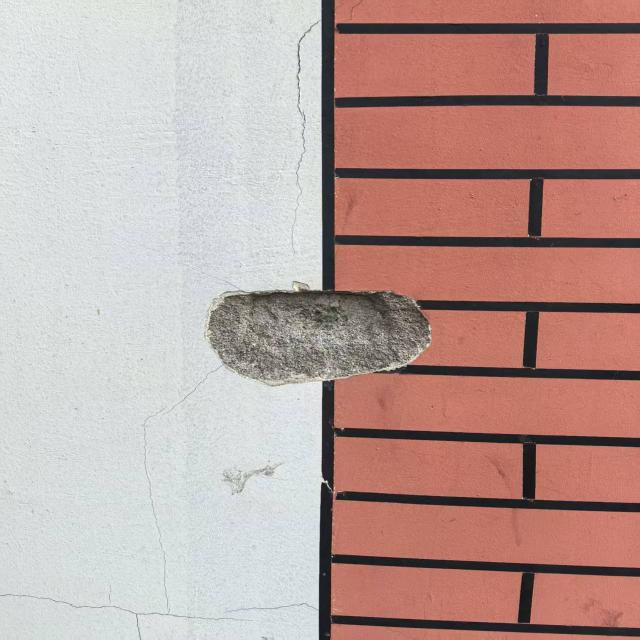crack: (5, 360, 269, 638), (278, 6, 361, 264), (220, 598, 365, 628)
spalling: (199, 288, 433, 390)
